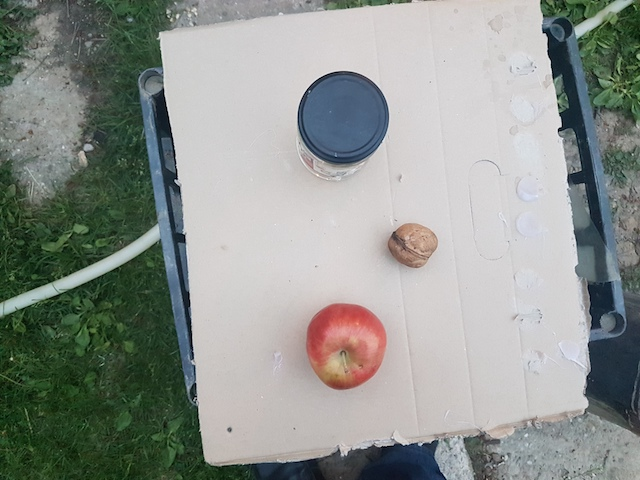apple: (305, 301, 386, 390)
nut: (386, 218, 437, 271)
recipient: (296, 69, 388, 162)
